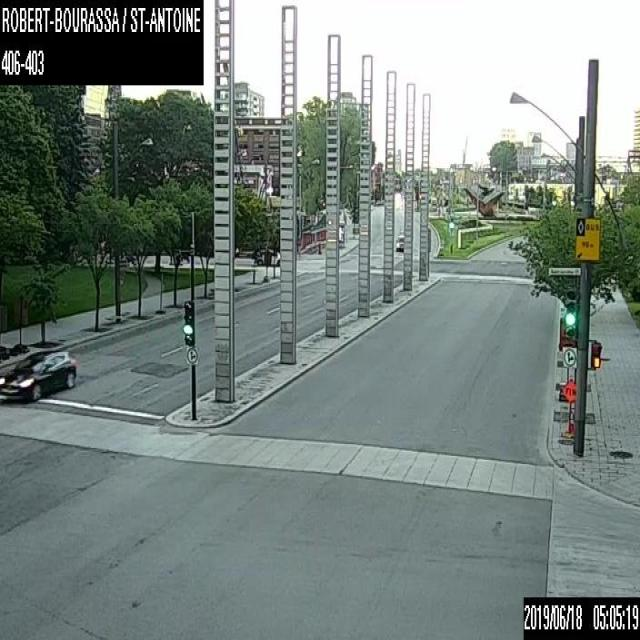construction: (560, 378, 575, 441)
vehicle: (0, 348, 76, 400), (256, 247, 279, 264), (395, 233, 403, 250)
